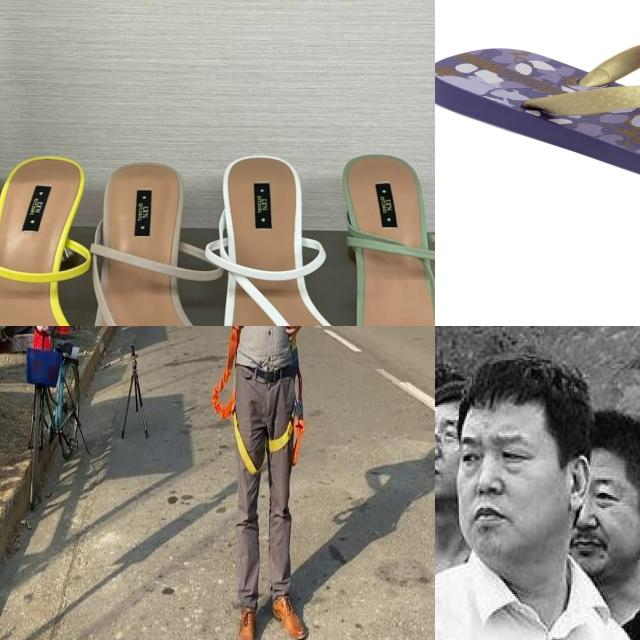Harness: (212, 329, 259, 476), (268, 378, 304, 466)
No_Ear-Protection: (559, 448, 595, 508)
Sandals: (208, 129, 393, 326), (435, 38, 640, 199), (87, 142, 240, 326), (320, 121, 435, 326), (0, 120, 102, 326)
face_nomask: (458, 441, 543, 542), (559, 477, 629, 562), (435, 419, 460, 489)
head_nohelmet: (461, 355, 582, 432), (564, 407, 640, 473)
person: (435, 356, 640, 640)
